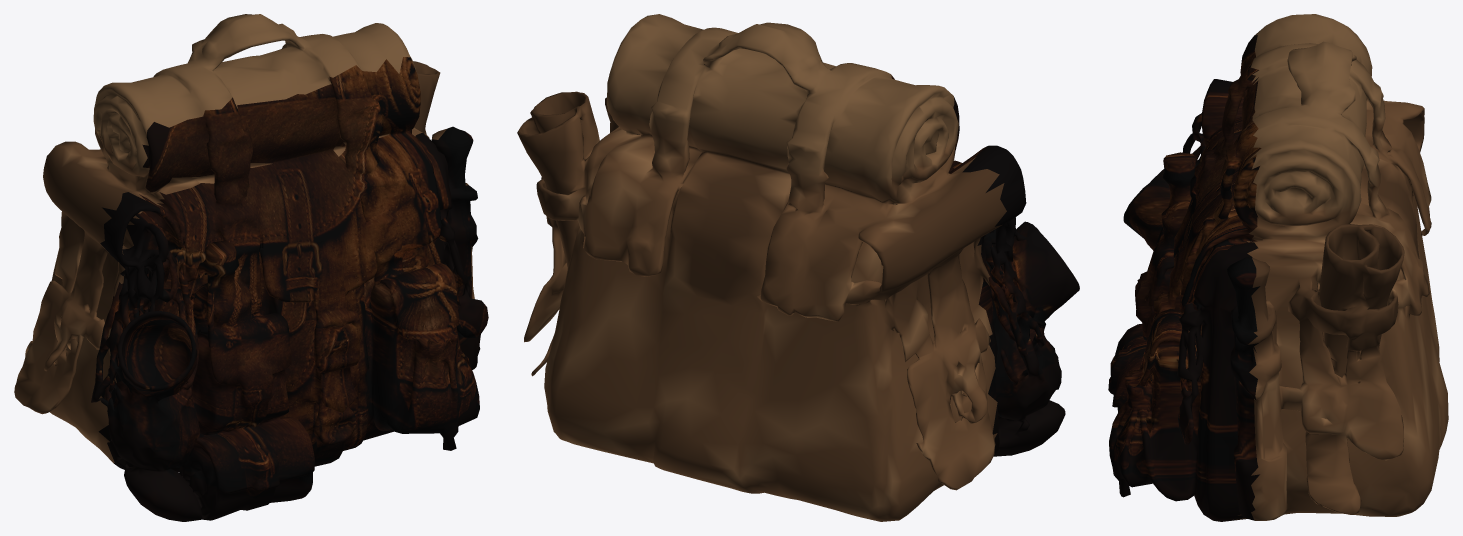
File: mochila.glb
3 renders of one model, left to right at view 1: azimuth 30°, elevation 25°; view 2: azimuth 150°, elevation 25°; view 3: azimuth 270°, elevation 25°, orthographic. The views are drawn at different scales.
Parts seen in each view (by area): view 1: tmpx9o2kwey.ply; view 2: tmpx9o2kwey.ply; view 3: tmpx9o2kwey.ply.
Boxes of the visible parts, x1,y1,x2,y2 form: tmpx9o2kwey.ply: (14,14,488,521); tmpx9o2kwey.ply: (517,14,1079,521); tmpx9o2kwey.ply: (1108,14,1448,521).
Bounding box in the file's own units: 1.96 × 1.88 × 1.38.
2 materials, 1 textured.
